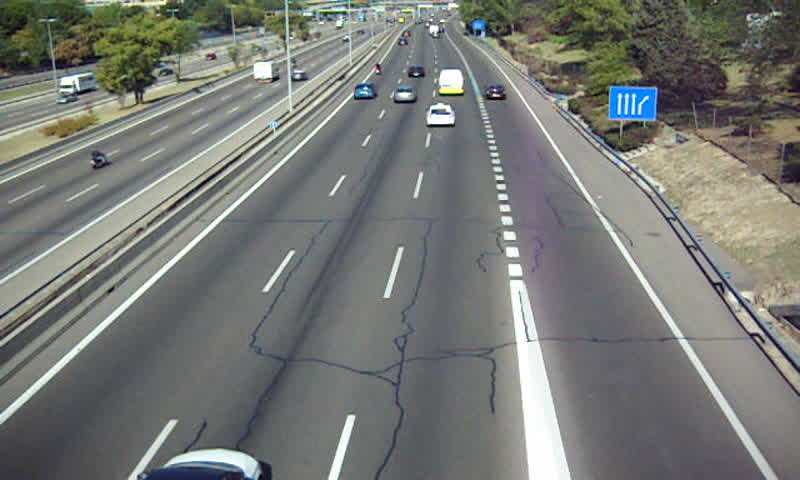car: (424, 103, 457, 126), (392, 87, 416, 105), (483, 84, 506, 101), (353, 84, 374, 102), (406, 65, 426, 77)
van: (437, 70, 465, 96)
